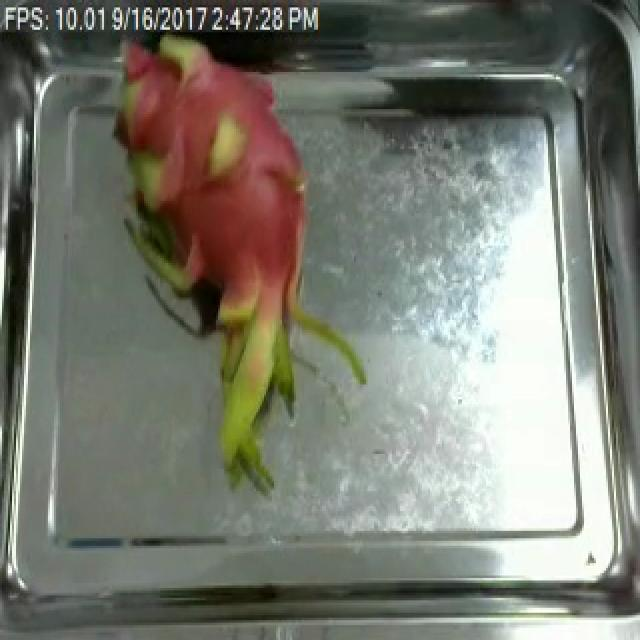fruit: (82, 20, 328, 409)
